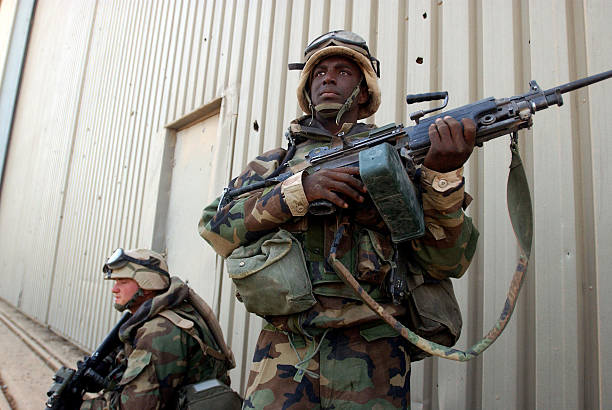rifle: (202, 64, 600, 244)
